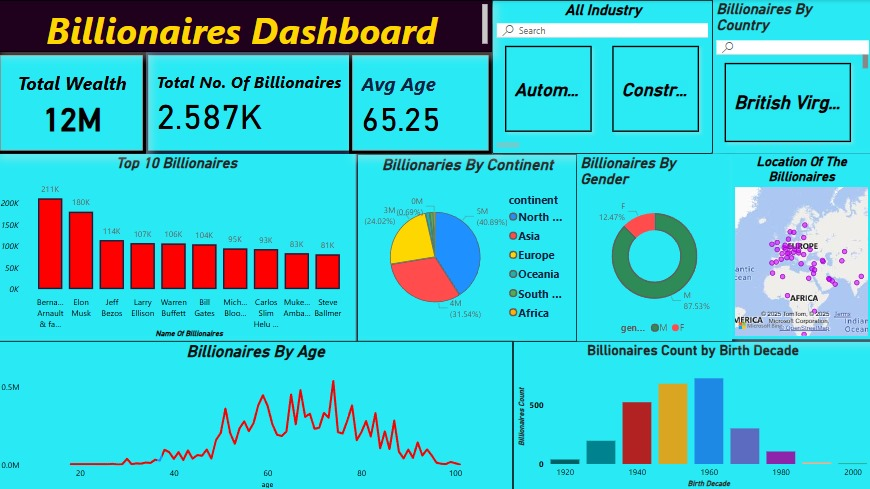

Layout of this report page (visuals, bound fields, positions):
{"tool":"powerbi","page":{"name":"Page 1","canvas":[1280,720],"ordinal":0},"visuals":[{"type":"cardVisual","fields":{"Data":["df_ready.Name"]},"box":[216.6,76.1,308.8,149.3],"z":0},{"type":"columnChart","title":"Top 10 Billionaires ","fields":{"Y":["df_ready.Top 10 Billionaires"],"Category":["df_ready.full_name"]},"box":[0,225.4,525.4,273.7],"z":1000},{"type":"cardVisual","fields":{"Data":["df_ready.Total Wealth"]},"box":[0,76.1,218,149.3],"z":2000},{"type":"pieChart","title":"Billionaries By Continent","fields":{"Category":["df_ready.continent"],"Y":["df_ready.Top 10 Billionaires"]},"box":[526.8,225.4,322,273.7],"z":3000},{"type":"cardVisual","fields":{"Data":["df_ready.Avg Age"]},"box":[515.1,76.1,209.3,149.3],"z":4000},{"type":"stackedAreaChart","title":"Billionaires By Age","fields":{"Y":["df_ready.wealth"],"Category":["df_ready.age"]},"box":[0,499,755.1,221],"z":4001},{"type":"columnChart","fields":{"Category":["df_ready.Birth Decade"],"Y":["df_ready.Billionaires Count"]},"box":[755.1,499,525.4,221],"z":4002},{"type":"advancedSlicerVisual","title":"All Industry","fields":{"Values":["df_ready.industry"]},"box":[724.4,0,323.4,225.4],"z":4003},{"type":"advancedSlicerVisual","title":"Billionaires By Country","fields":{"Values":["df_ready.country_of_residence"]},"box":[1047.8,0,232.7,225.4],"z":4004},{"type":"donutChart","title":"Billionaires By Gender","fields":{"Y":["df_ready.Billionaires numbers"],"Category":["df_ready.gender"]},"box":[848.8,225.4,226.8,273.7],"z":4005},{"type":"map","title":"Location Of The Billionaires","fields":{"Category":["df_ready.country_of_residence"]},"box":[1076,225,204,271],"z":4006},{"type":"textbox","box":[0,0,724.4,76.1],"z":4007}]}

Visuals, with their boxes in screenshot pixels (x1, y1, x2, y2), scaled from the page's 1280x720 canvas onto the 870x489 screenshot:
cardVisual - df_ready.Name: region(147, 52, 357, 153)
"Top 10 Billionaires " columnChart: region(0, 153, 357, 339)
cardVisual - df_ready.Total Wealth: region(0, 52, 148, 153)
"Billionaries By Continent" pieChart: region(358, 153, 577, 339)
cardVisual - df_ready.Avg Age: region(350, 52, 492, 153)
"Billionaires By Age" stackedAreaChart: region(0, 339, 513, 488)
columnChart - df_ready.Birth Decade x df_ready.Billionaires Count: region(513, 339, 869, 488)
"All Industry" advancedSlicerVisual: region(492, 0, 712, 153)
"Billionaires By Country" advancedSlicerVisual: region(712, 0, 869, 153)
"Billionaires By Gender" donutChart: region(577, 153, 731, 339)
"Location Of The Billionaires" map: region(731, 153, 869, 337)
textbox: region(0, 0, 492, 52)
